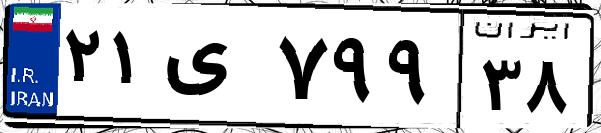1: (110, 28, 158, 98)
2: (57, 26, 110, 100)
3: (475, 38, 525, 113)
7: (270, 28, 330, 110)
8: (525, 38, 570, 115)
9: (385, 28, 445, 110), (330, 28, 385, 110)
ی: (158, 20, 270, 120)
